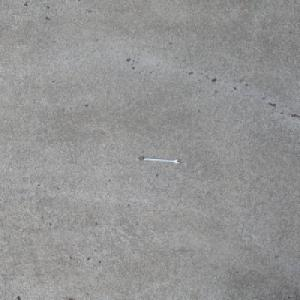Wrench: (137, 156, 180, 163)
